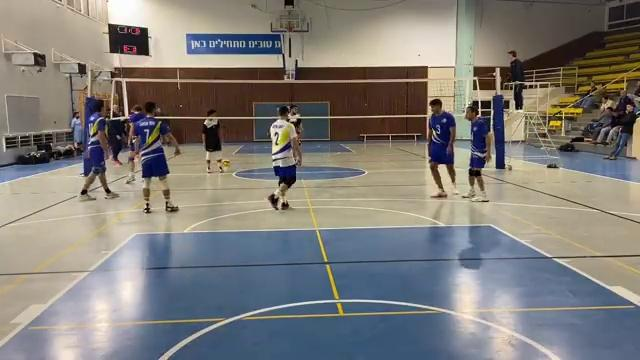ball: (223, 159, 228, 170)
